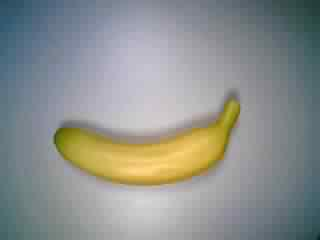banana: (46, 95, 248, 191)
